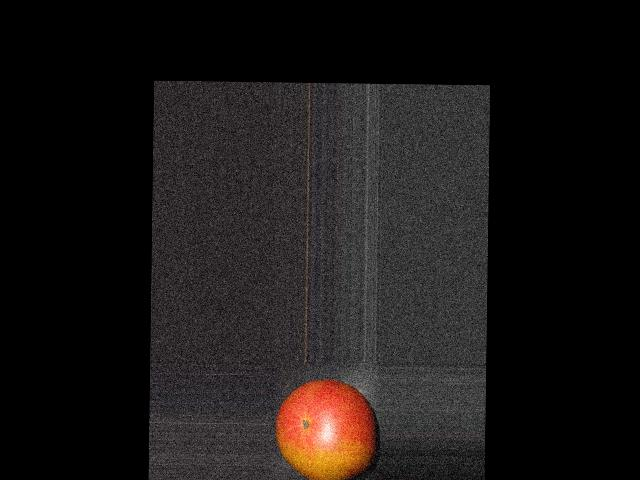tomato: (275, 379, 377, 480)
